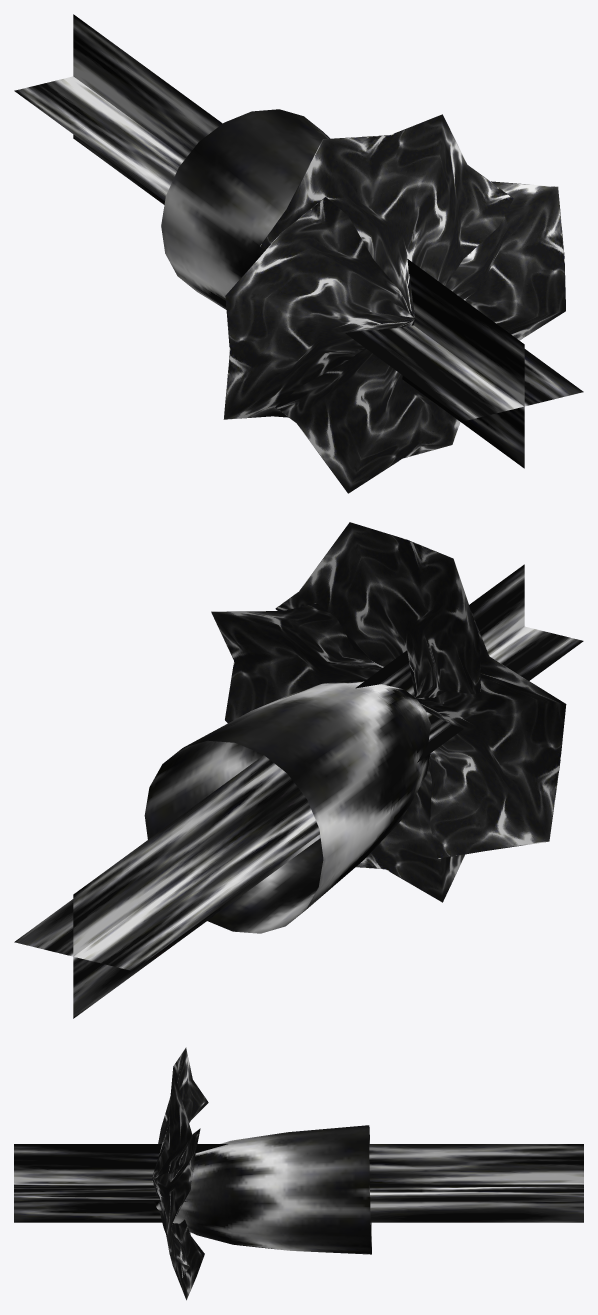
File: effect_mws_atk02_atk_donghua.fbx
The picture shows the model from 3 angles, top to bottom: view 1: azimuth 30°, elevation 25°; view 2: azimuth 150°, elevation 25°; view 3: azimuth 270°, elevation 25°; orthographic projection. The views are drawn at different scales.
Parts seen in each view (by area): view 1: effect_renzhe_wenli_mo, daoguang, zhaozi_dy_0002; view 2: effect_renzhe_wenli_mo, daoguang, zhaozi_dy_0002; view 3: daoguang, zhaozi_dy_0002, effect_renzhe_wenli_mo.
Part boxes in pixels (bbox=[...]): effect_renzhe_wenli_mo: bbox=[223, 114, 565, 493]; daoguang: bbox=[14, 14, 583, 468]; zhaozi_dy_0002: bbox=[161, 109, 329, 309]; effect_renzhe_wenli_mo: bbox=[211, 522, 566, 902]; daoguang: bbox=[14, 564, 583, 1018]; zhaozi_dy_0002: bbox=[144, 679, 430, 933]; daoguang: bbox=[14, 1144, 583, 1222]; zhaozi_dy_0002: bbox=[154, 1125, 371, 1254]; effect_renzhe_wenli_mo: bbox=[152, 1047, 208, 1300].
Bounding box in the file's own units: 4.31 × 4.27 × 9.78.
